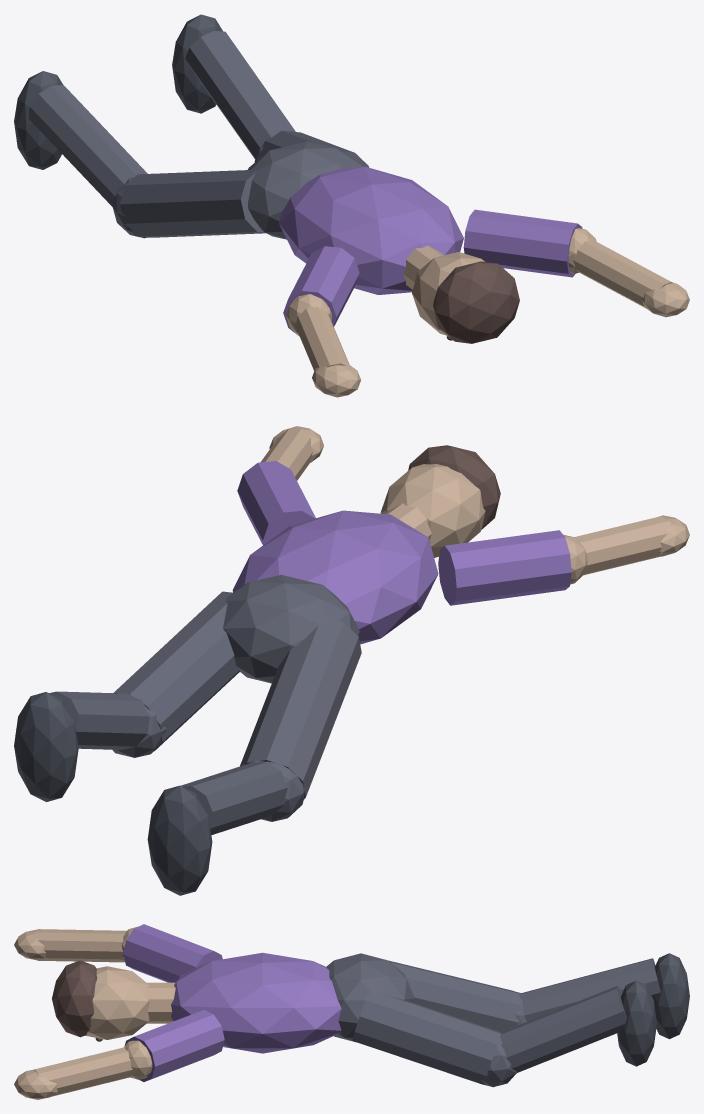
The picture shows the model from 3 angles, top to bottom: view 1: azimuth 30°, elevation 25°; view 2: azimuth 150°, elevation 25°; view 3: azimuth 270°, elevation 25°; orthographic projection. The views are drawn at different scales.
Visible parts, largest first — view 1: world; view 2: world; view 3: world.
Boxes of the visible parts, x1,y1,x2,y2 form: world: (14,14,689,397); world: (14,426,689,895); world: (14,924,689,1099).
Bounding box in the file's own units: 1.17 × 0.4125 × 2.13.
